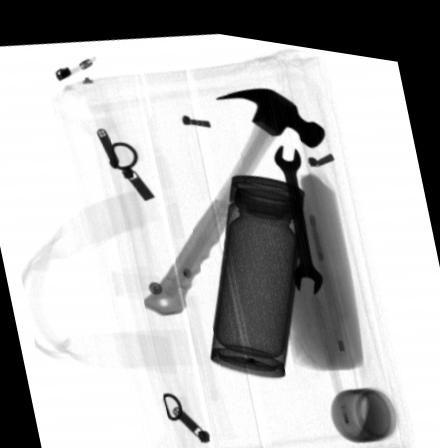Hammer: (142, 79, 323, 310)
Wrench: (271, 135, 322, 285)
